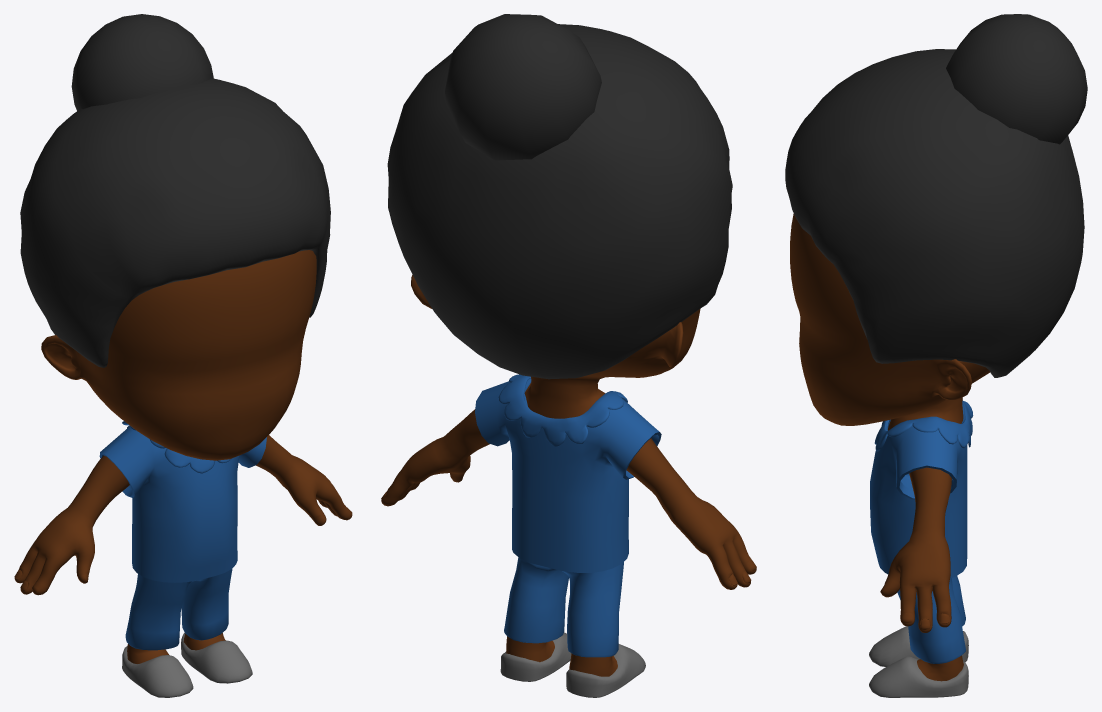
The model's file is male_ver_03.FBX.
The picture shows the model from 3 angles, left to right: view 1: azimuth 30°, elevation 25°; view 2: azimuth 150°, elevation 25°; view 3: azimuth 270°, elevation 25°; orthographic projection. The views are drawn at different scales.
Visible parts, largest first — view 1: har3:hair, body, har3:shirt, har3:pent, shoes, har3:shirt_top; view 2: har3:hair, har3:shirt, body, har3:pent, shoes, har3:shirt_top; view 3: har3:hair, body, har3:shirt, shoes, har3:pent, har3:shirt_top.
Part boxes in pixels (x1,y1,x2,y2): har3:hair: (20,14,330,367); body: (14,250,352,663); har3:shirt: (99,426,266,582); har3:pent: (125,569,232,650); shoes: (122,632,252,697); har3:shirt_top: (122,421,231,473); har3:hair: (387,14,732,379); har3:shirt: (475,378,661,572); body: (381,275,756,676); har3:pent: (504,557,623,657); shoes: (500,632,645,697); har3:shirt_top: (498,374,627,446); har3:hair: (785,14,1087,377); body: (790,213,990,681); har3:shirt: (870,404,967,578); shoes: (869,626,968,697); har3:pent: (897,576,965,663); har3:shirt_top: (874,400,973,451).
Size of the model in its own units: 10.58 by 19.25 by 8.08.
